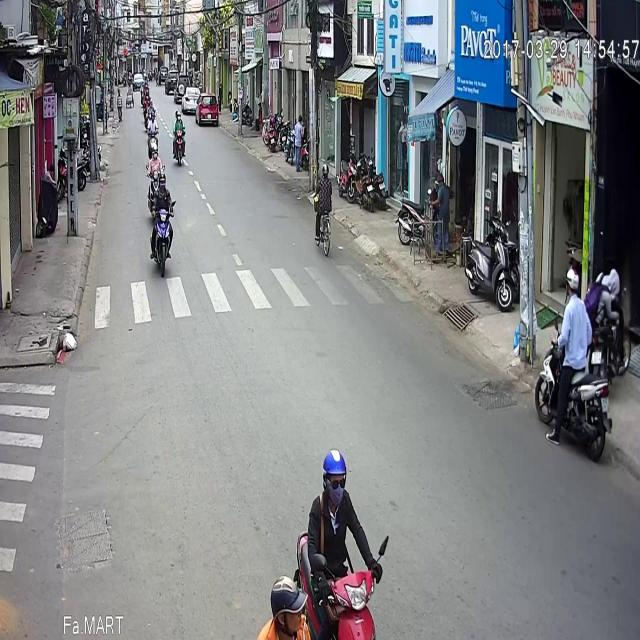bicycle: (312, 103, 333, 199)
car: (195, 32, 219, 68)
motorcycle: (298, 393, 386, 609), (534, 209, 612, 399), (151, 113, 175, 219), (146, 91, 166, 161), (171, 48, 185, 108), (147, 54, 159, 99)
